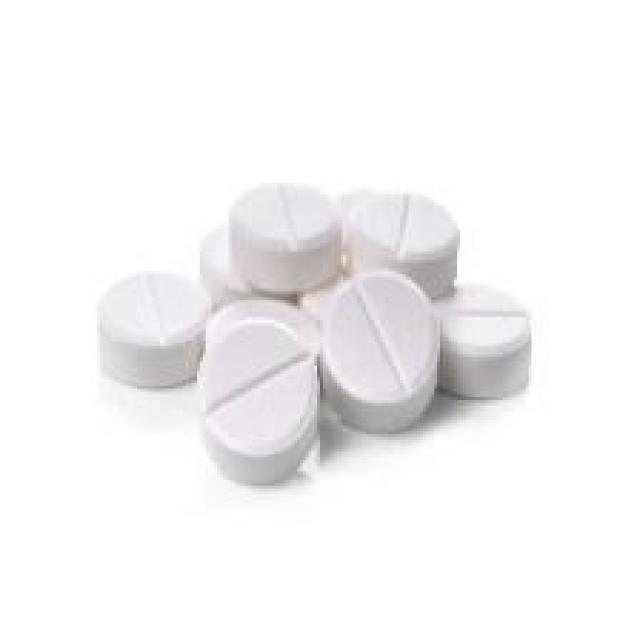Medicine: (61, 162, 551, 486)
